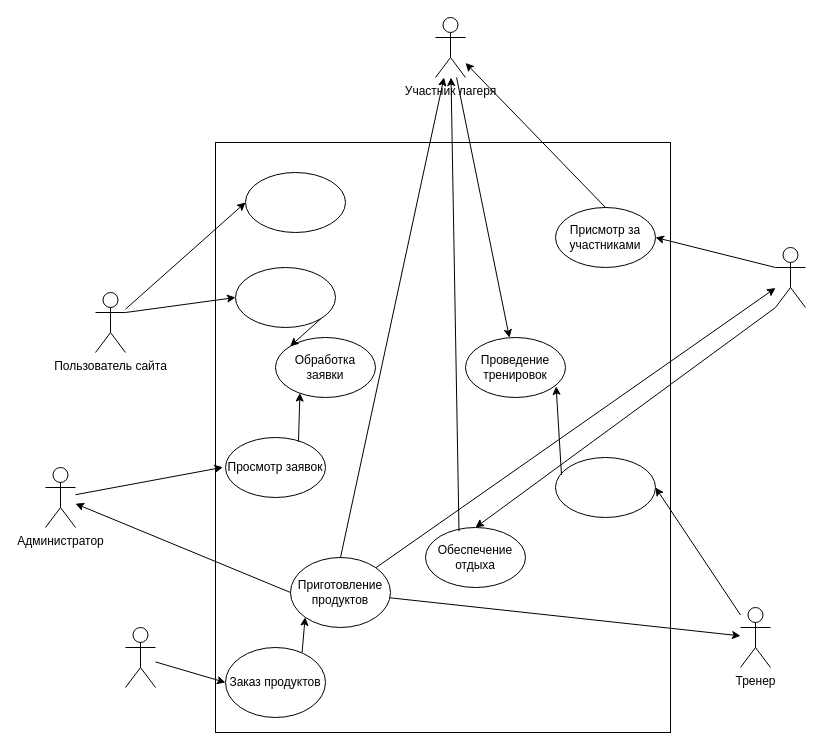
This 833x750 diagram has some shape labels left out. Each missing label, with the box of its shape:
Вожатый: (774, 246, 806, 308)
Заполнение заявки: (234, 266, 336, 328)
Отслеживание заявки: (244, 172, 346, 232)
Повар: (124, 626, 156, 688)
Создания тренировок: (554, 456, 656, 518)
